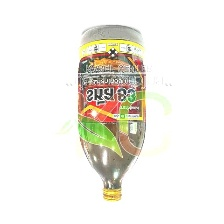insecticide: (70, 23, 149, 201)
